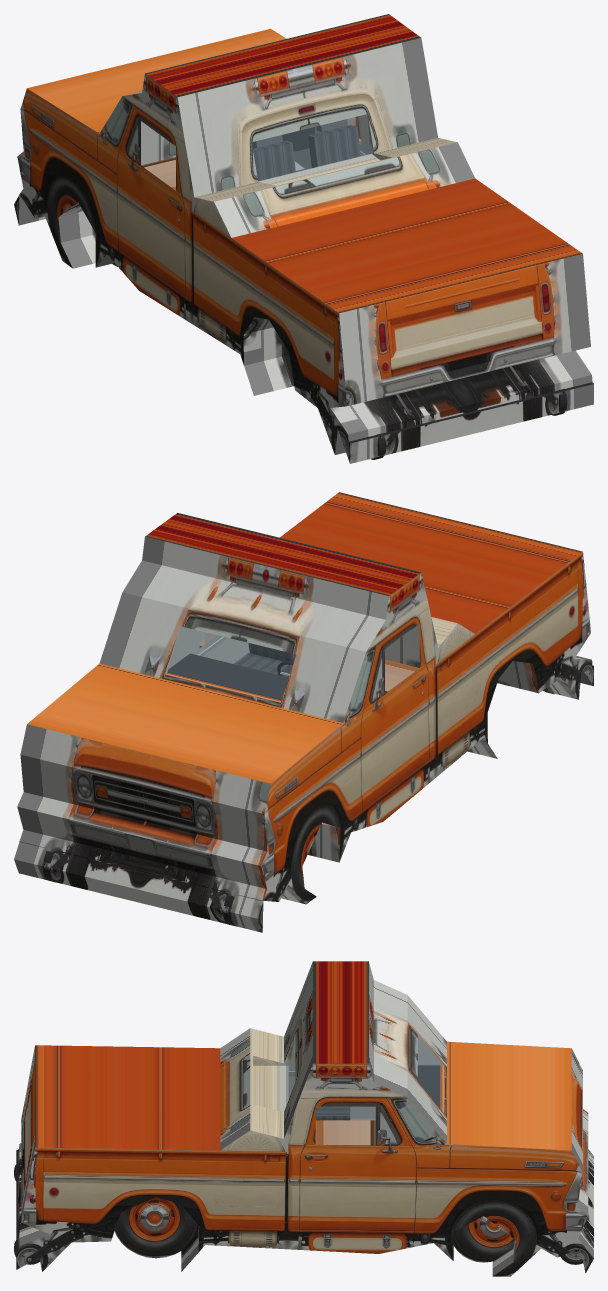
The model's file is hi_rail_truck.glb.
The picture shows the model from 3 angles, top to bottom: view 1: azimuth 30°, elevation 25°; view 2: azimuth 150°, elevation 25°; view 3: azimuth 270°, elevation 25°; orthographic projection. The views are drawn at different scales.
Parts seen in each view (by area): view 1: hi_rail_truck, hi_rail_truck_cabin; view 2: hi_rail_truck, hi_rail_truck_cabin; view 3: hi_rail_truck, wheel_M2R, hi_rail_truck_cabin, wheel_M1R.
Boxes of the visible parts, x1,y1,x2,y2 form: hi_rail_truck: (14, 14, 593, 463); hi_rail_truck_cabin: (251, 114, 372, 181); hi_rail_truck: (14, 492, 593, 932); hi_rail_truck_cabin: (167, 626, 296, 700); hi_rail_truck: (16, 961, 593, 1276); wheel_M2R: (114, 1197, 198, 1258); hi_rail_truck_cabin: (286, 1036, 440, 1120); wheel_M1R: (453, 1216, 514, 1262).
Bounding box in the file's own units: 2.7 × 2.65 × 6.47.
Materials: 12 (4 with a texture image).
